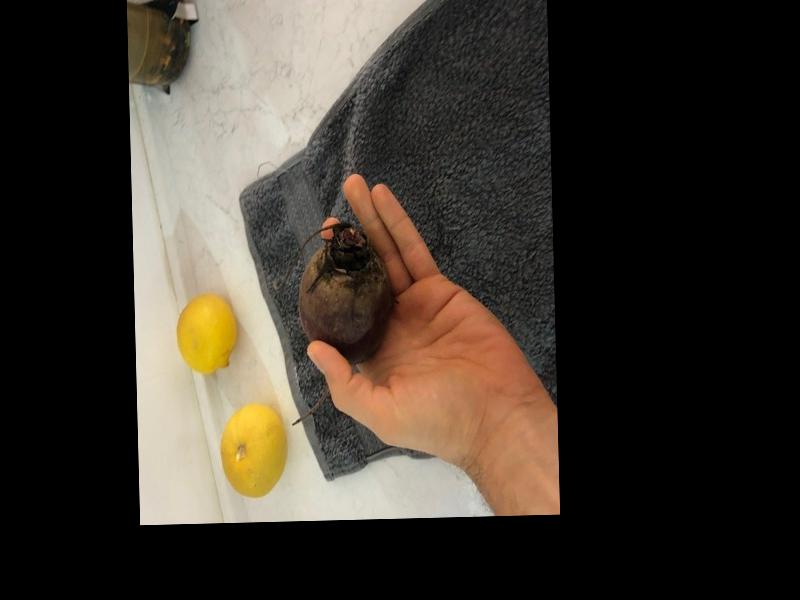Beet: (287, 222, 395, 426)
